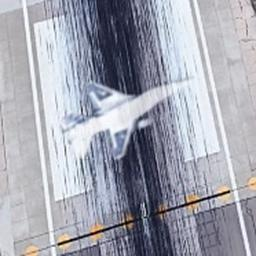Airplane: (50, 64, 210, 164)
